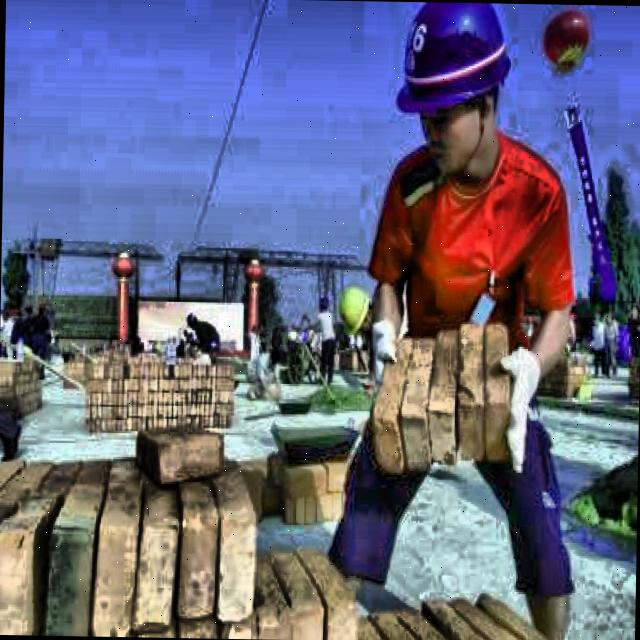helmet: (388, 6, 516, 188), (334, 278, 374, 337)
